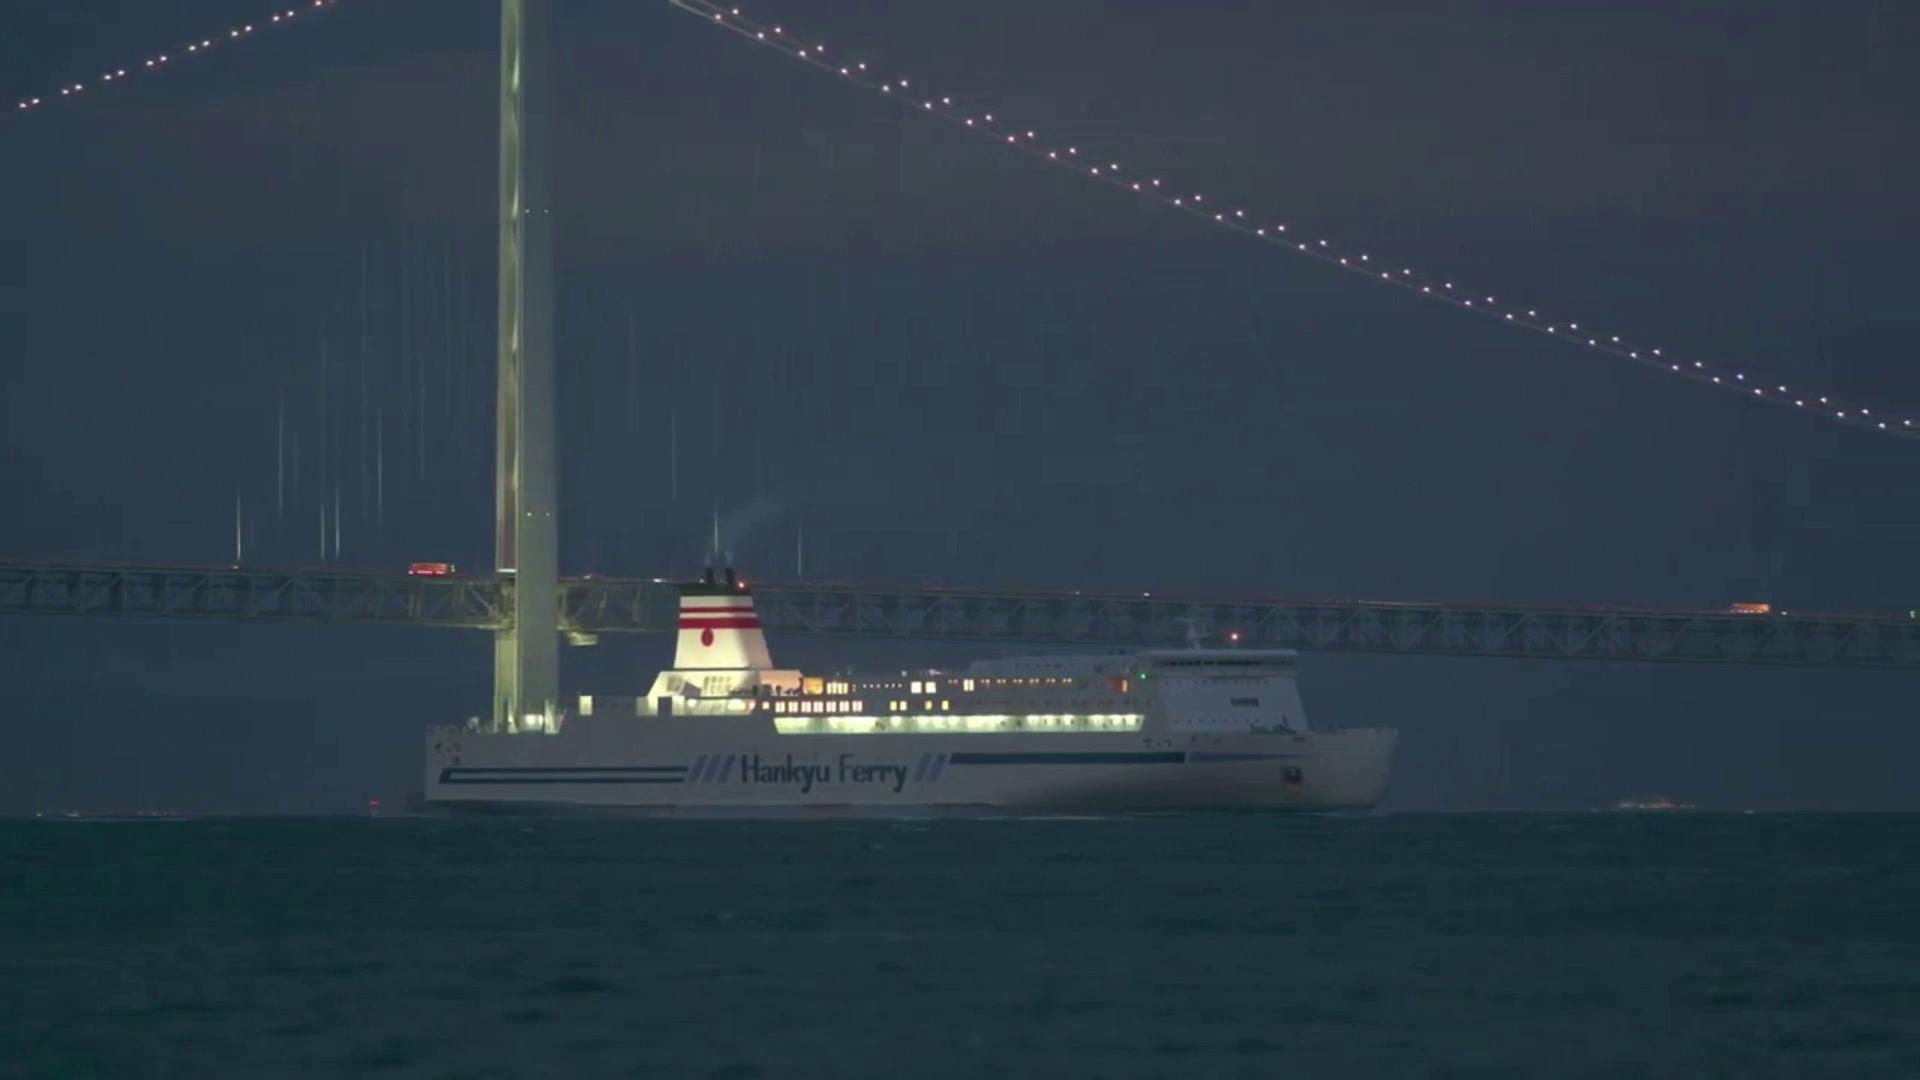OCR: (731, 742, 910, 800)
